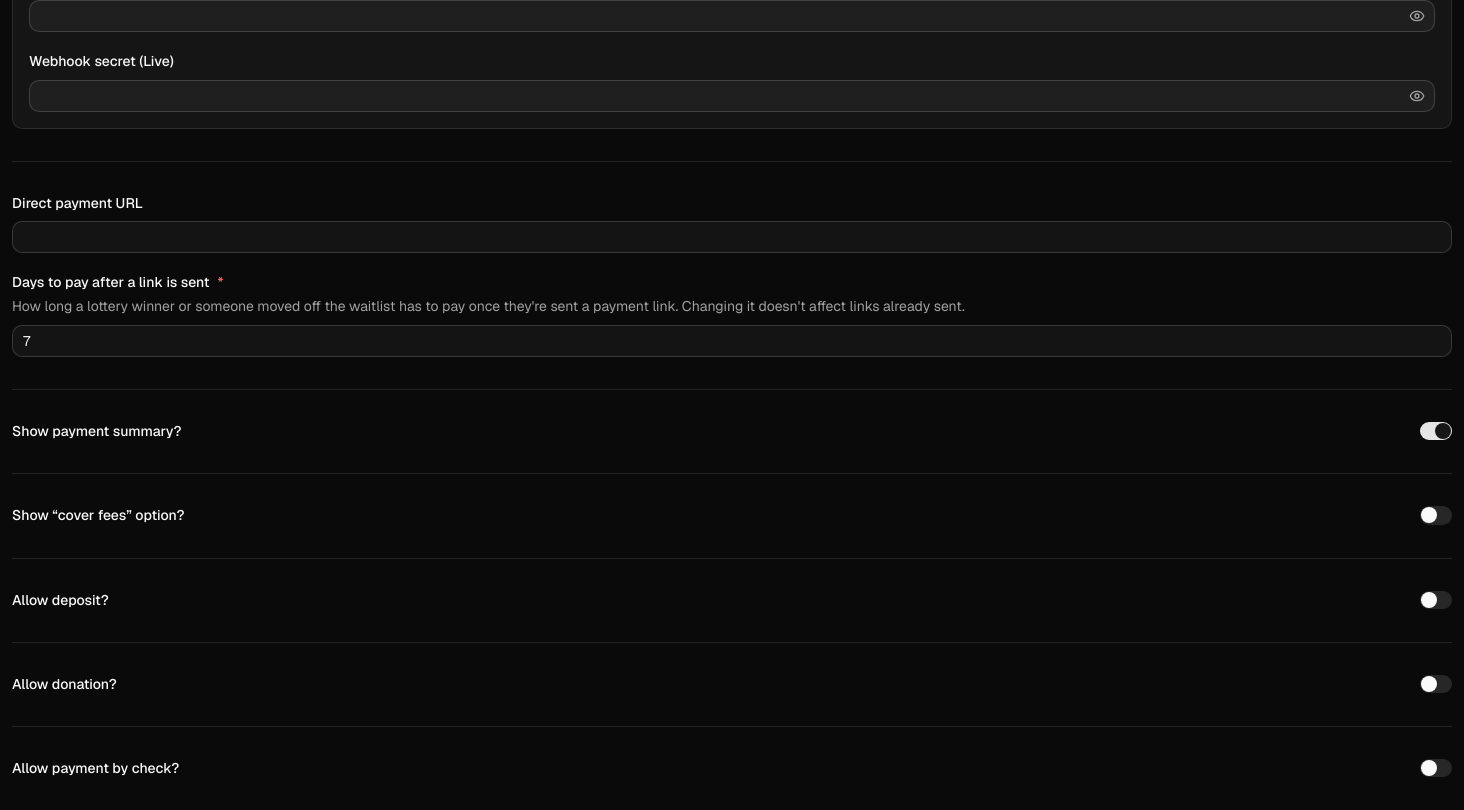
Test: PaymentsForm › optional sections › reveals the fee rates only while cover fees are offered, keeping them either way
The width and height of the screenshot is (1464, 810).
(page scrolled)
Click the switch named "cover fees" in the row of "Show “cover fees” option?". click: click(1436, 516)
box: [1420,506,1452,525]
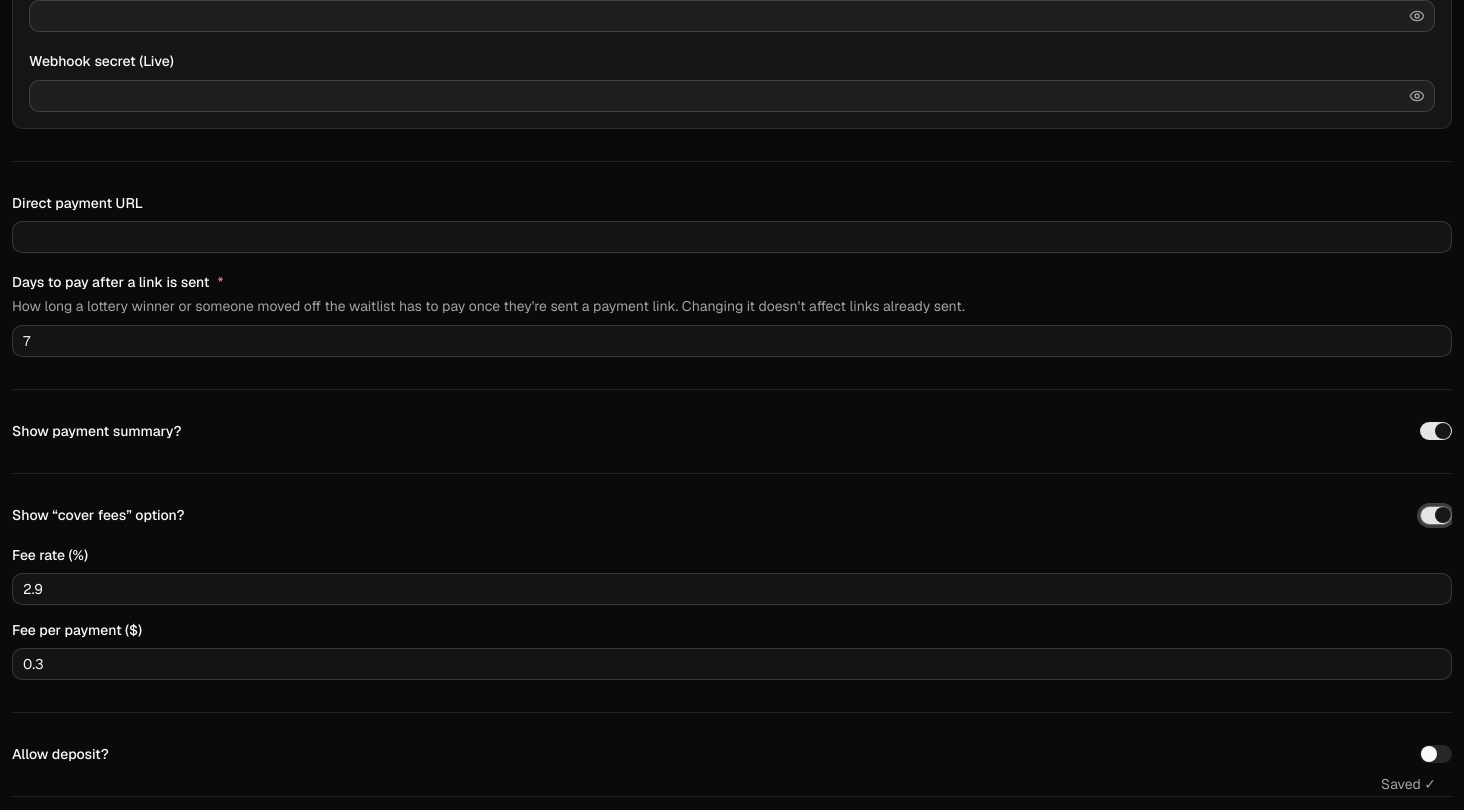
expect the number field labelled "Fee rate (%)" holds "2.9": met
Replace the text in the number field labelled "Fee rate (%)" with "1.99". click: (732, 589)
box: [12,573,1452,605]
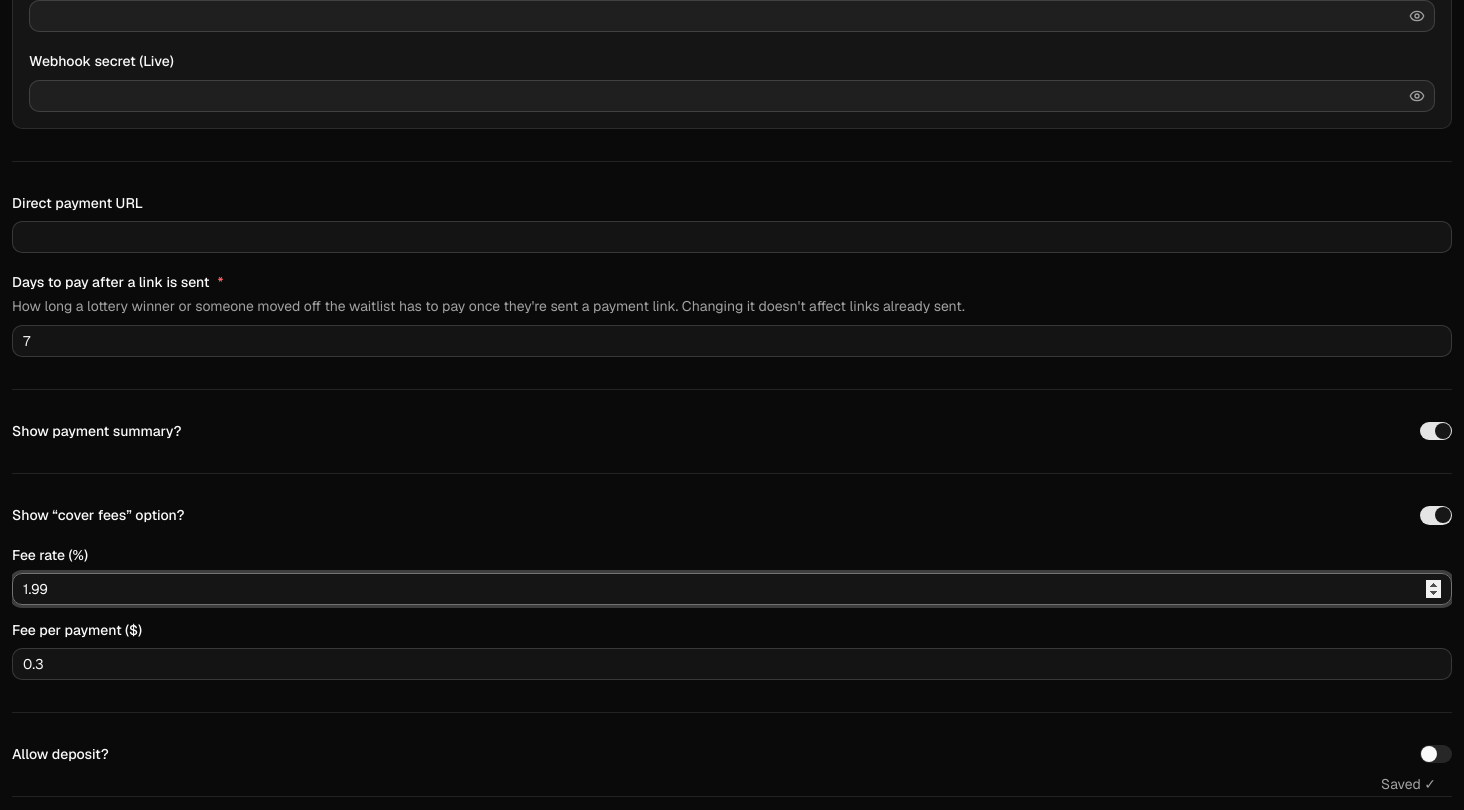
Replace the text in the number field labelled "Fee per payment ($)" with "0.49". click: (732, 664)
box: [12,648,1452,680]
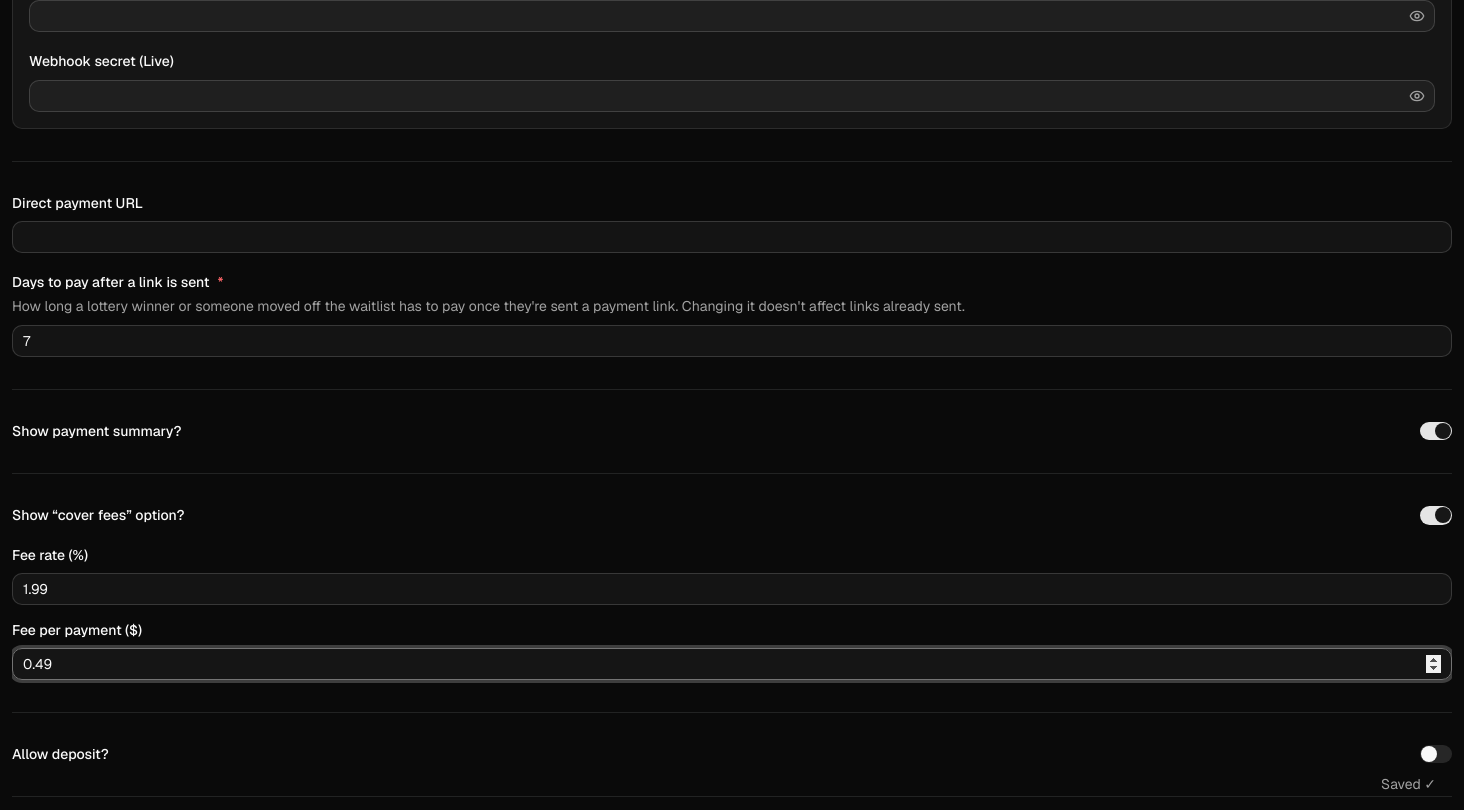
Press Tab
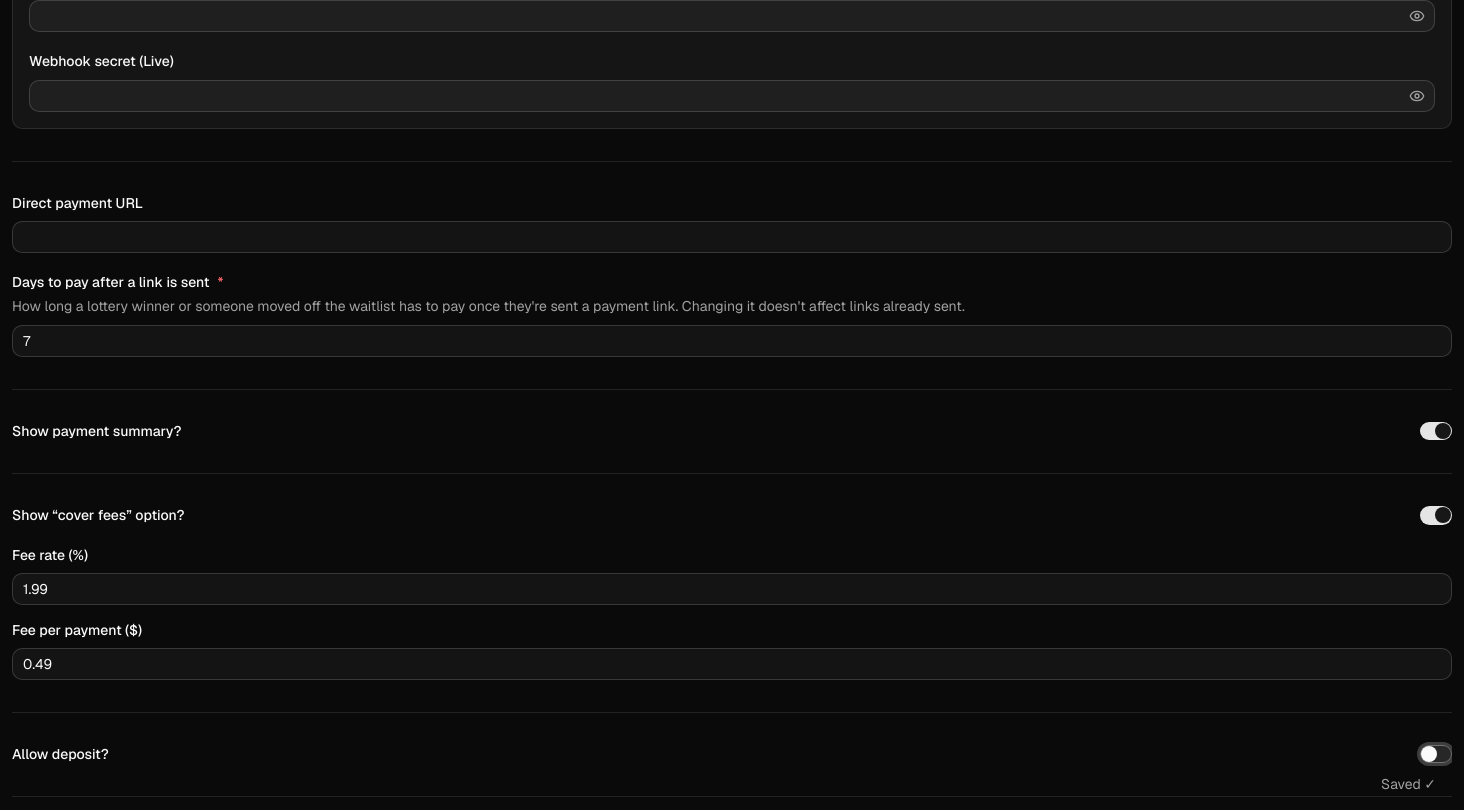
Click the switch named "cover fees" in the row of "Show “cover fees” option?". click: click(1436, 516)
box: [1420,506,1452,525]
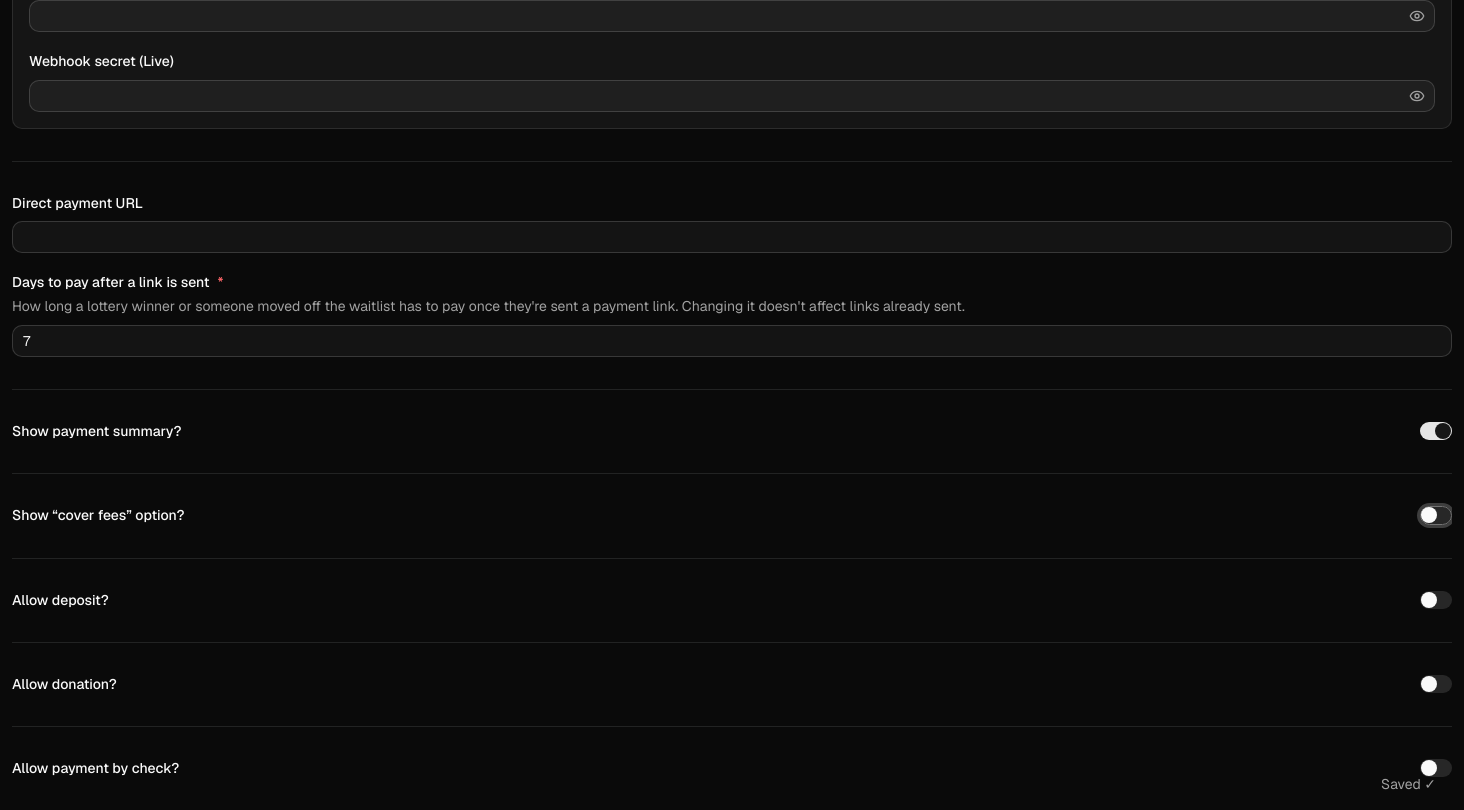
expect the label is gone: met
